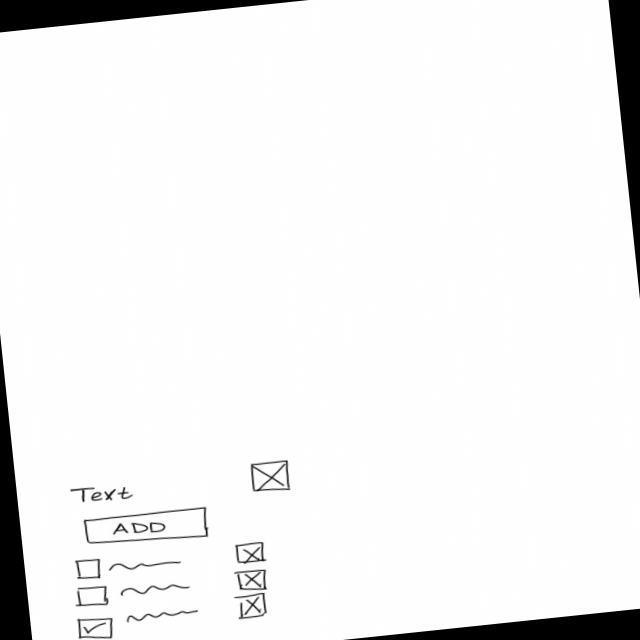button: (83, 506, 211, 551)
checkbox: (75, 605, 205, 640), (74, 575, 193, 610), (73, 550, 185, 582)
image: (250, 459, 294, 495), (232, 540, 270, 566), (235, 568, 270, 594), (238, 593, 269, 621)
label: (69, 482, 136, 507)
